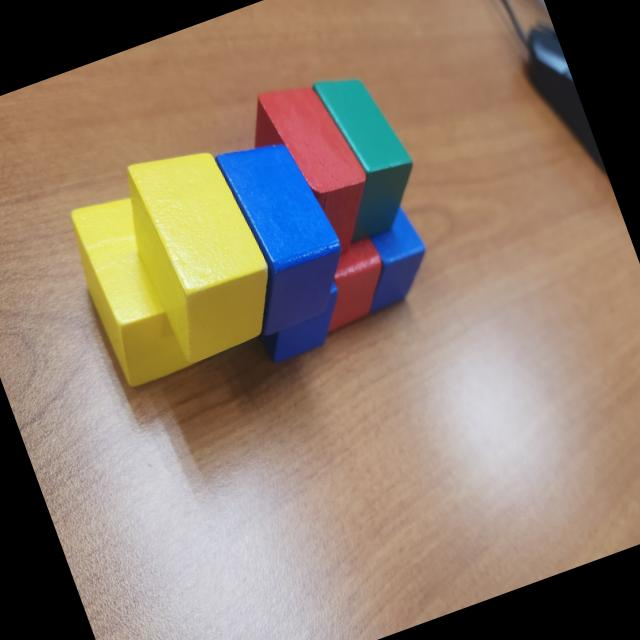blue: (198, 124, 364, 340), (232, 230, 358, 369), (336, 197, 444, 316)
green: (292, 60, 433, 246)
red: (236, 69, 390, 270), (296, 230, 408, 338)
yellow: (109, 130, 292, 370), (60, 183, 208, 394)
